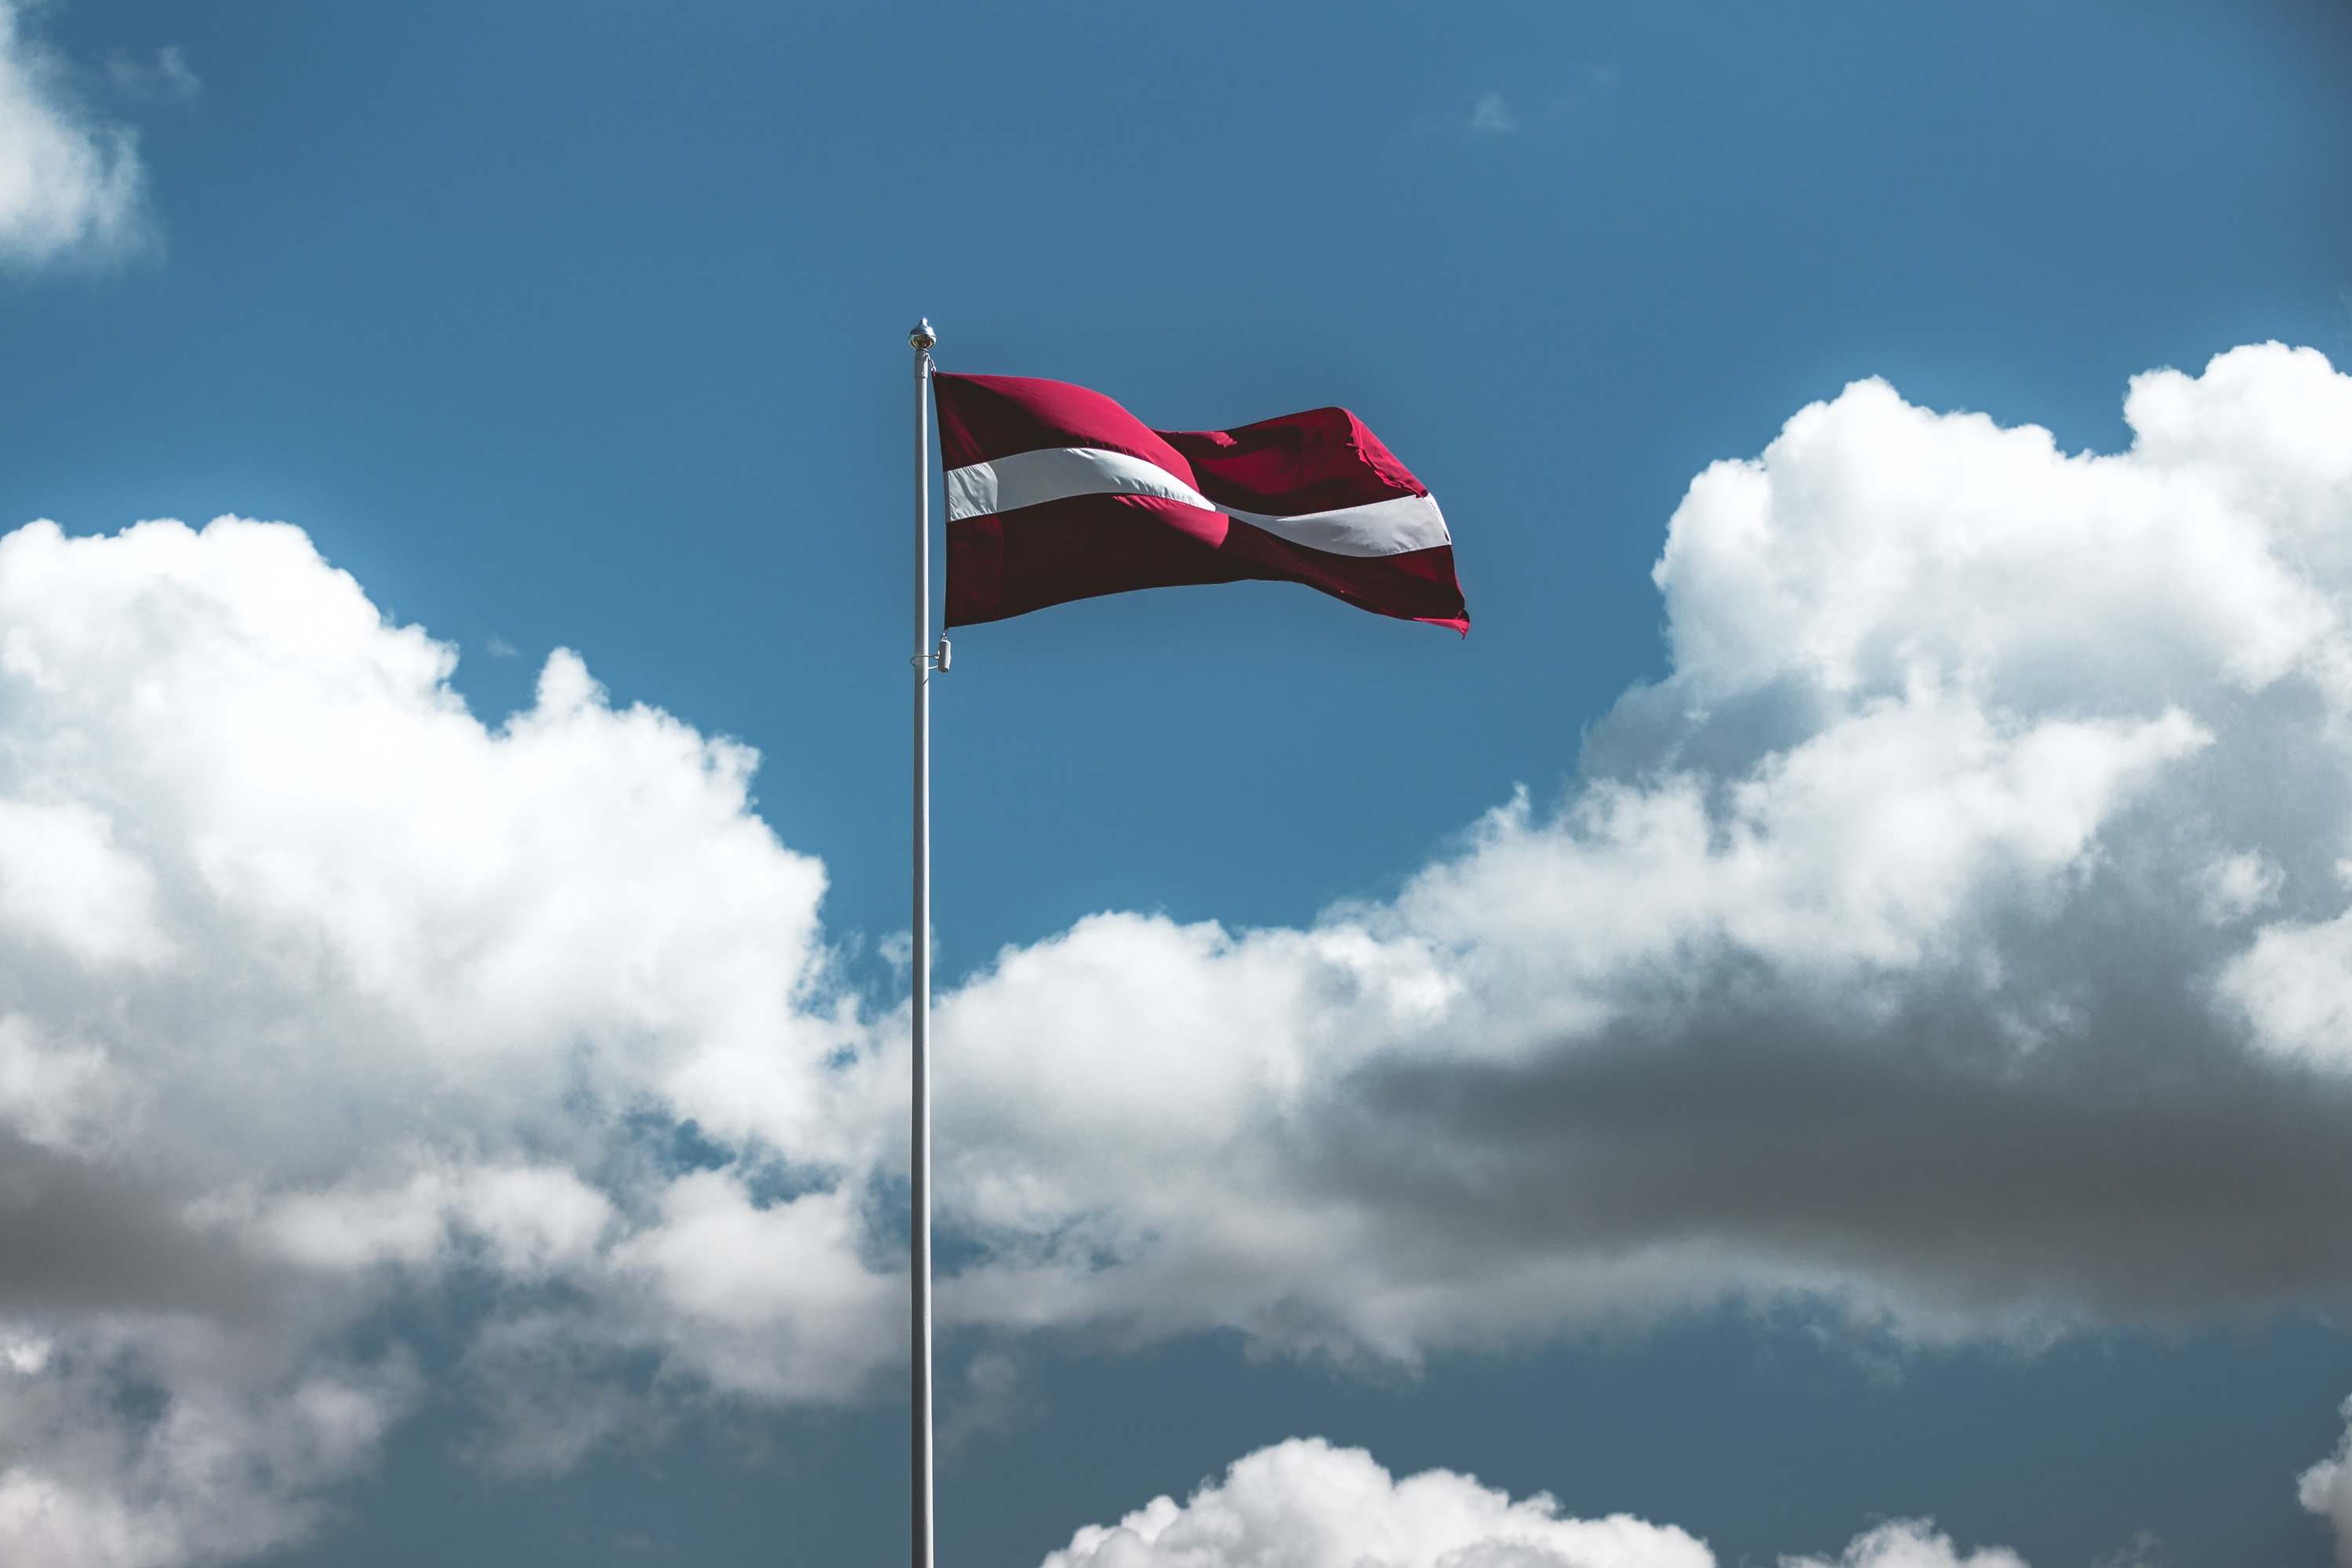Flag: (922, 369, 1480, 644)
